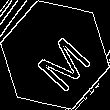M_NW: (22, 21, 88, 89)
